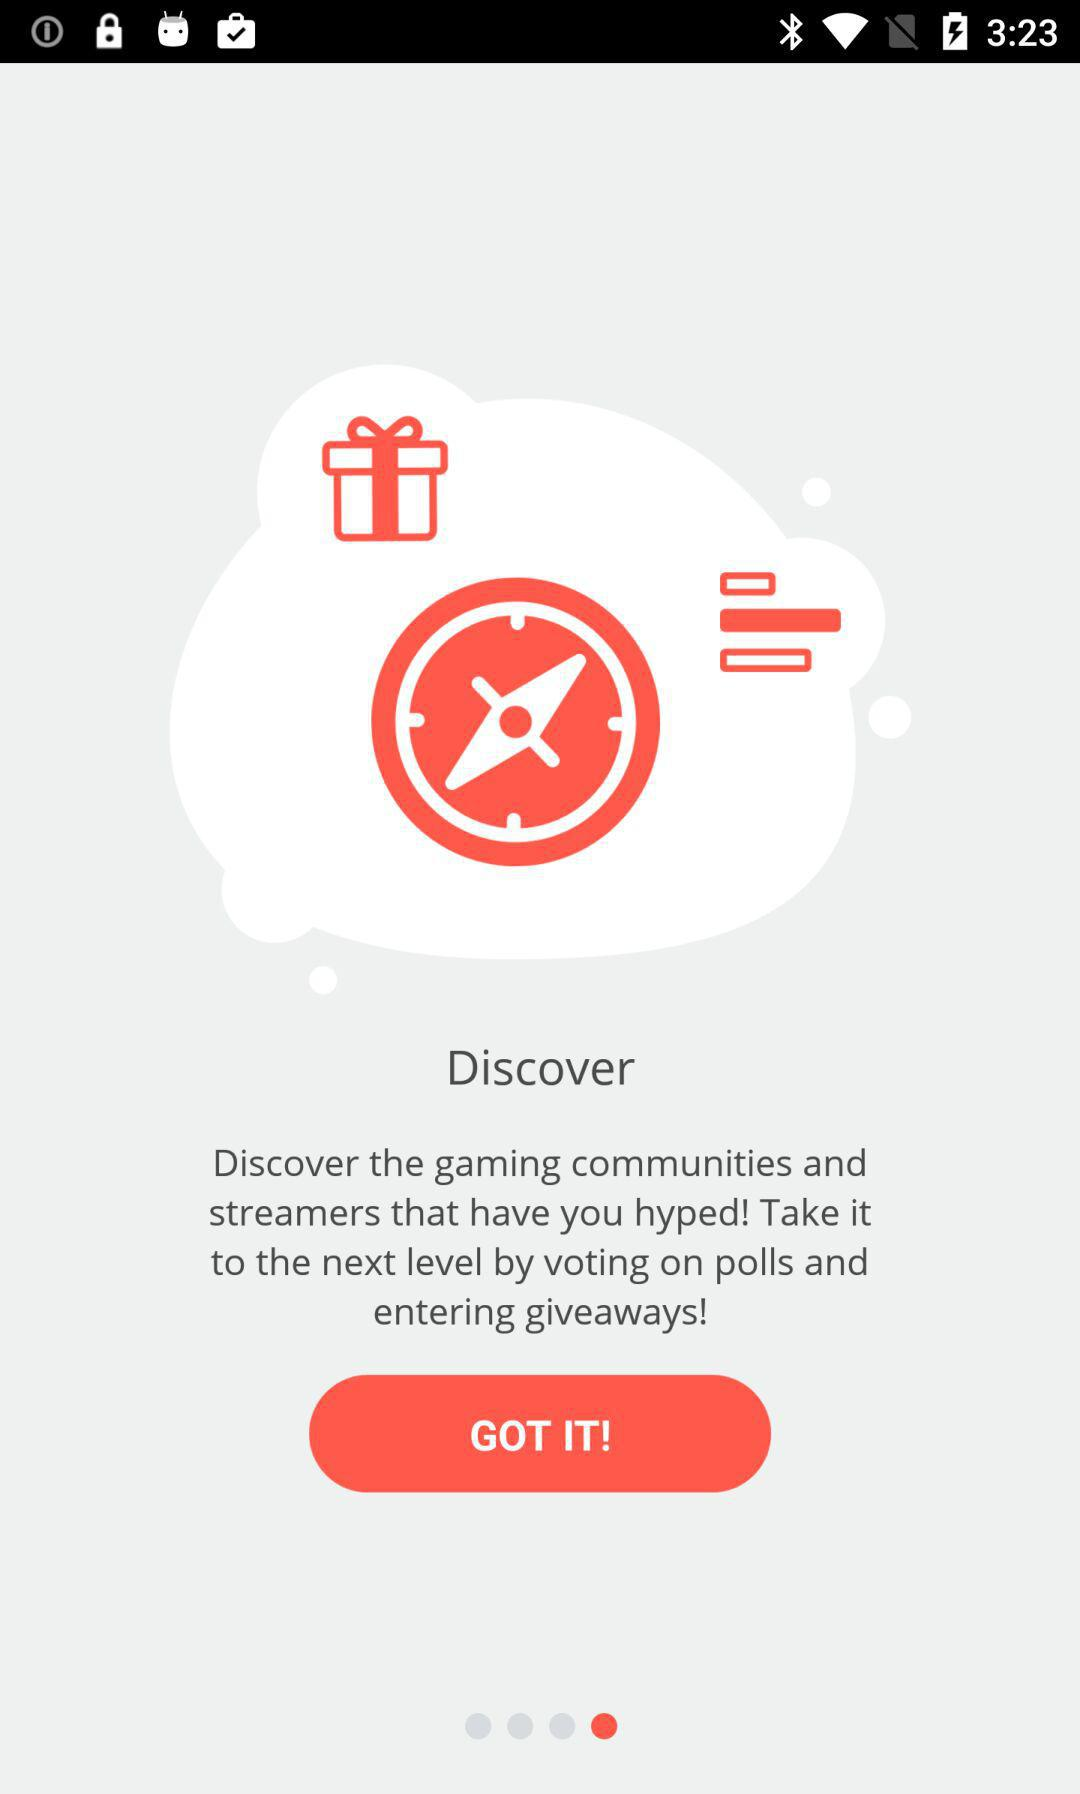Image: (167, 361, 913, 997)
PageIndicator: (465, 1712, 618, 1741)
Text: (209, 1147, 872, 1335), (448, 1048, 637, 1087)
TextButton: (307, 1374, 773, 1494)
UpperTaskBar: (1, 1, 1080, 64)
